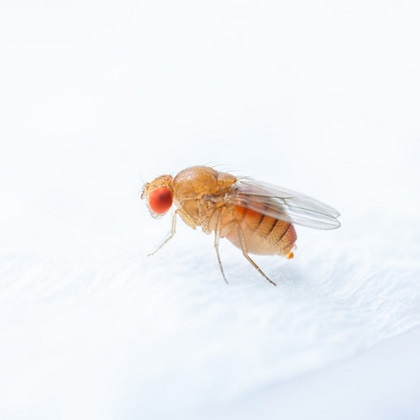phorid fly: (130, 147, 345, 293)
